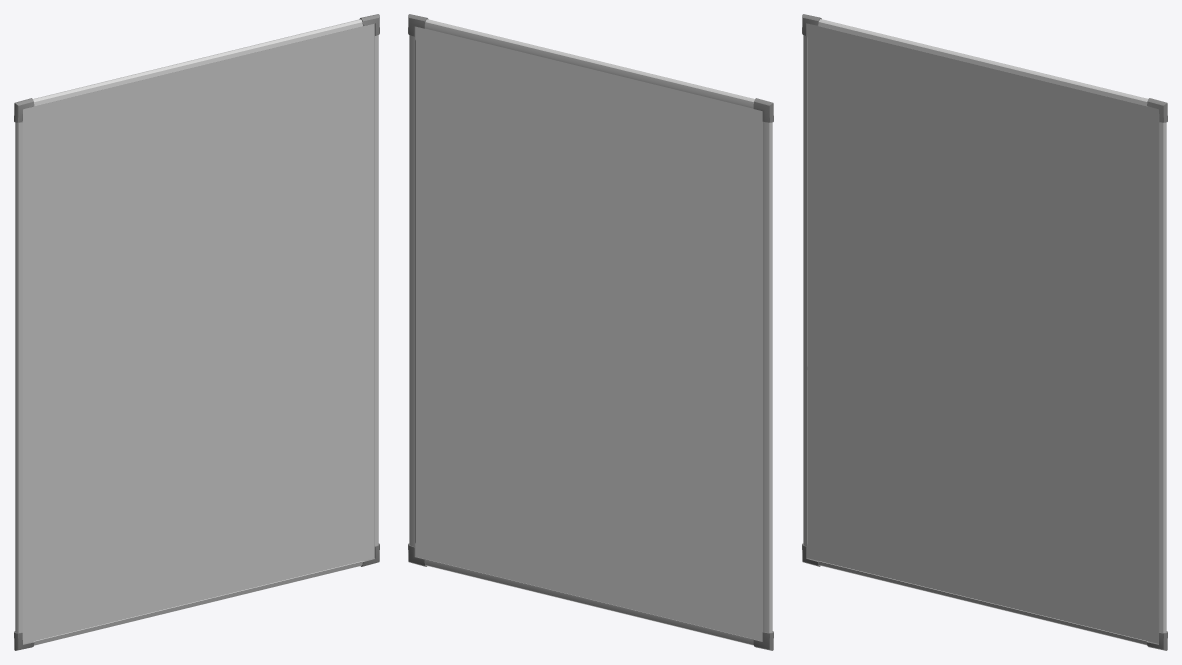
Rendered from DoorWhiteBoard.fbx.
The picture shows the model from 3 angles, left to right: view 1: azimuth 30°, elevation 25°; view 2: azimuth 150°, elevation 25°; view 3: azimuth 330°, elevation 25°; orthographic projection.
Visible parts, largest first — view 1: Cube.088; view 2: Cube.088; view 3: Cube.088.
Part boxes in pixels (left/top/right/bottom): Cube.088: left=14, top=14, right=379, bottom=650; Cube.088: left=408, top=14, right=773, bottom=650; Cube.088: left=802, top=14, right=1167, bottom=650.
Size of the model in its own units: 0.6059 by 0.0129 by 0.8699.
Materials: 1 (1 with a texture image).
